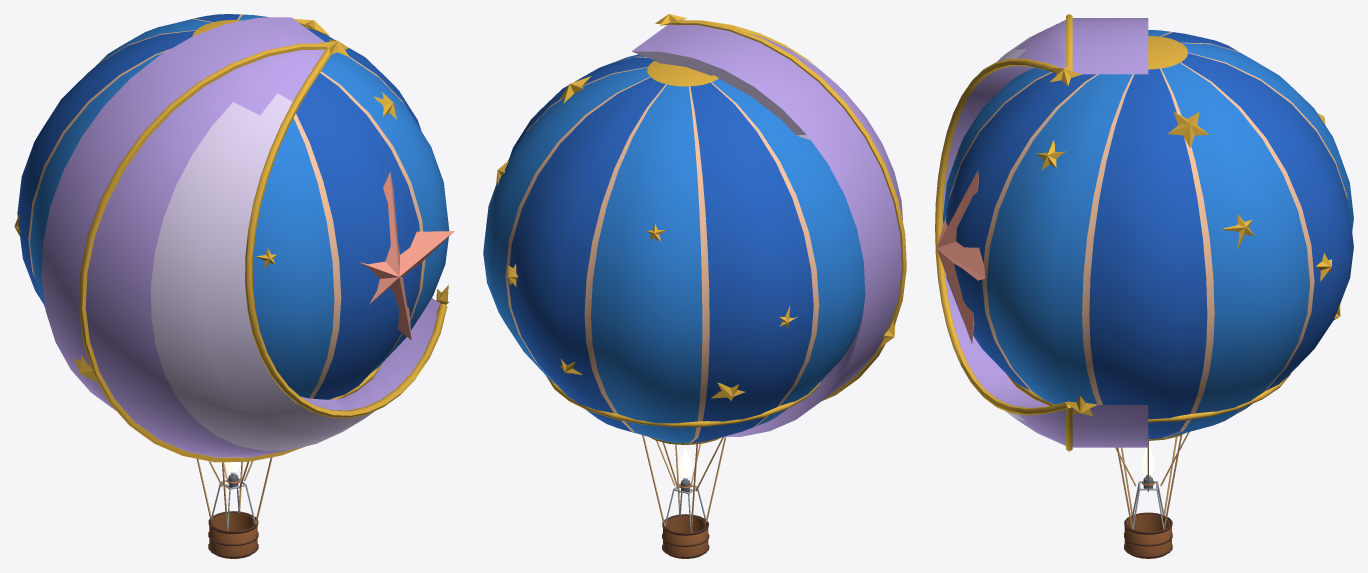
Rendered from balao_lua_estrelas.glb.
The picture shows the model from 3 angles, left to right: view 1: azimuth 30°, elevation 25°; view 2: azimuth 150°, elevation 25°; view 3: azimuth 270°, elevation 25°; orthographic projection. The views are drawn at different scales.
Parts seen in each view (by area): view 1: balao_lua_estrelas; view 2: balao_lua_estrelas; view 3: balao_lua_estrelas.
Boxes of the visible parts, bbox=[...] form: balao_lua_estrelas: bbox=[14, 14, 454, 558]; balao_lua_estrelas: bbox=[483, 14, 906, 558]; balao_lua_estrelas: bbox=[935, 14, 1353, 558].
Bounding box in the file's own units: 15.48 × 20.48 × 15.08.
2 materials, 1 textured.
